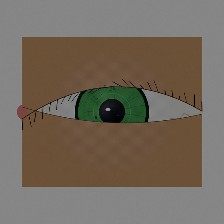pinguecula_lesion: (34, 105, 74, 138)
